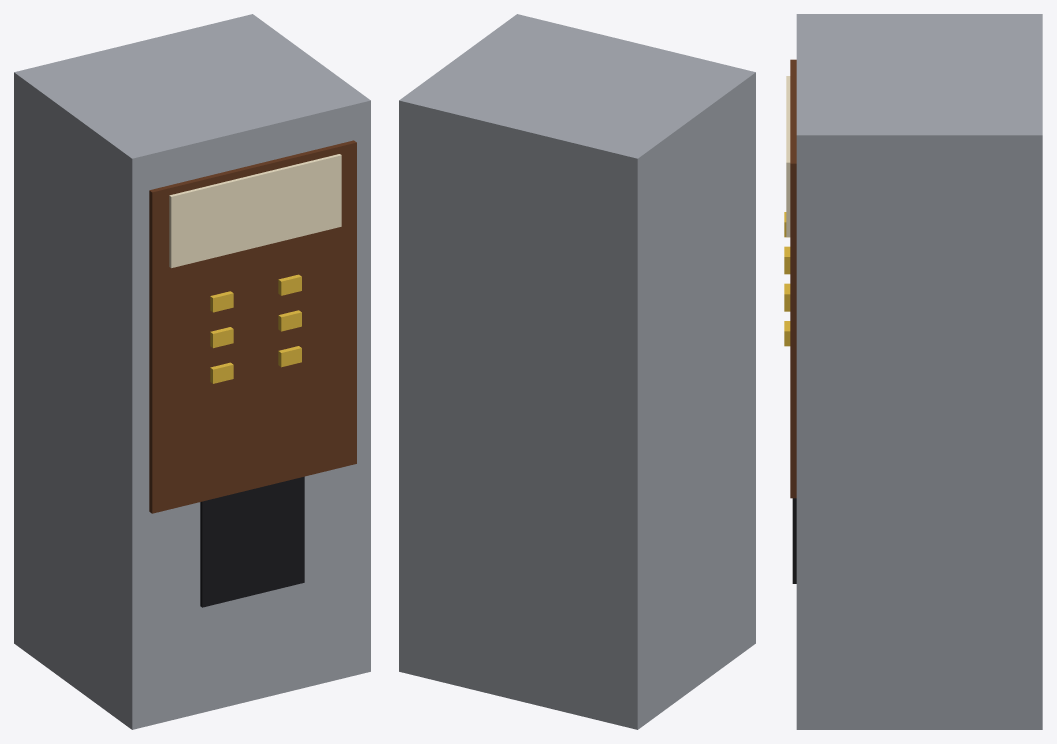
The model's file is coffee_machine.glb.
3 views of the same model, side by side, from view 1: azimuth 30°, elevation 25°; view 2: azimuth 150°, elevation 25°; view 3: azimuth 270°, elevation 25° (orthographic). The views are drawn at different scales.
Visible parts, largest first — view 1: cabinet_coffee_steel, front_coffee_brown, sign_coffee_sign, slot_coffee_slot; view 2: cabinet_coffee_steel; view 3: cabinet_coffee_steel, front_coffee_brown, sign_coffee_sign, slot_coffee_slot.
Boxes of the visible parts, x1=… form: cabinet_coffee_steel: x1=14, y1=14, x2=370, y2=729; front_coffee_brown: x1=149, y1=140, x2=356, y2=513; sign_coffee_sign: x1=169, y1=154, x2=341, y2=268; slot_coffee_slot: x1=200, y1=476, x2=304, y2=607; cabinet_coffee_steel: x1=399, y1=14, x2=755, y2=729; cabinet_coffee_steel: x1=796, y1=14, x2=1042, y2=729; front_coffee_brown: x1=790, y1=59, x2=796, y2=498; sign_coffee_sign: x1=786, y1=76, x2=790, y2=236; slot_coffee_slot: x1=792, y1=498, x2=796, y2=583.
Bounding box in the file's own units: 0.7 × 1.6 × 0.63.
